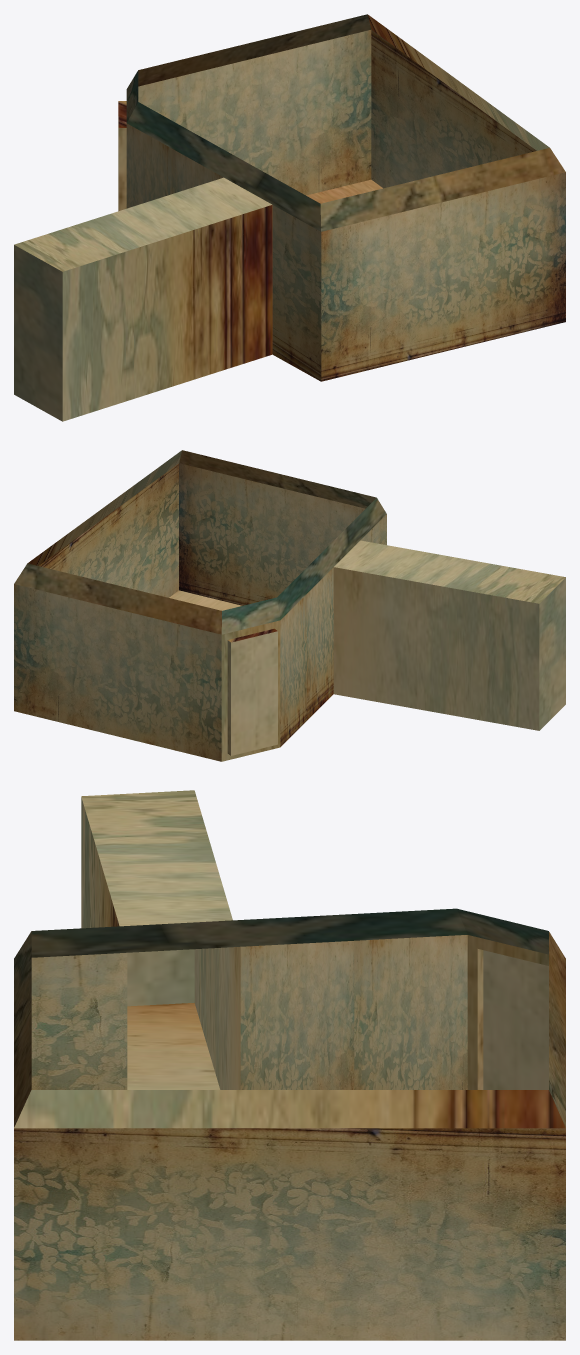
The model's file is waking room.fbx.
The picture shows the model from 3 angles, top to bottom: view 1: azimuth 30°, elevation 25°; view 2: azimuth 150°, elevation 25°; view 3: azimuth 270°, elevation 25°; orthographic projection. The views are drawn at different scales.
Parts seen in each view (by area): view 1: waking room; view 2: waking room; view 3: waking room.
Boxes of the visible parts, <box> form: waking room: <box>14,14,565,421</box>; waking room: <box>14,450,565,761</box>; waking room: <box>14,790,565,1340</box>.
Bounding box in the file's own units: 1410 × 475 × 973.
Materials: 1 (1 with a texture image).
